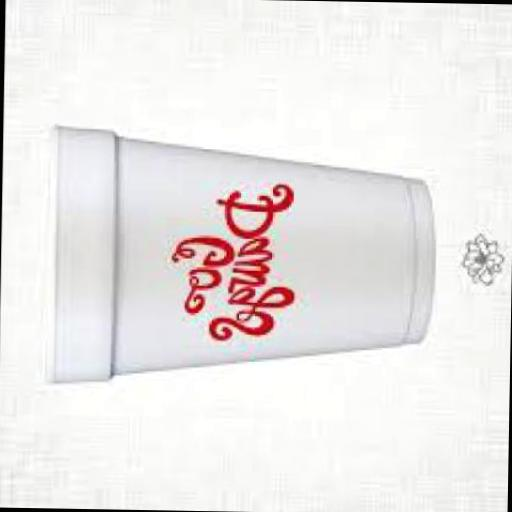paper: (42, 121, 430, 385)
